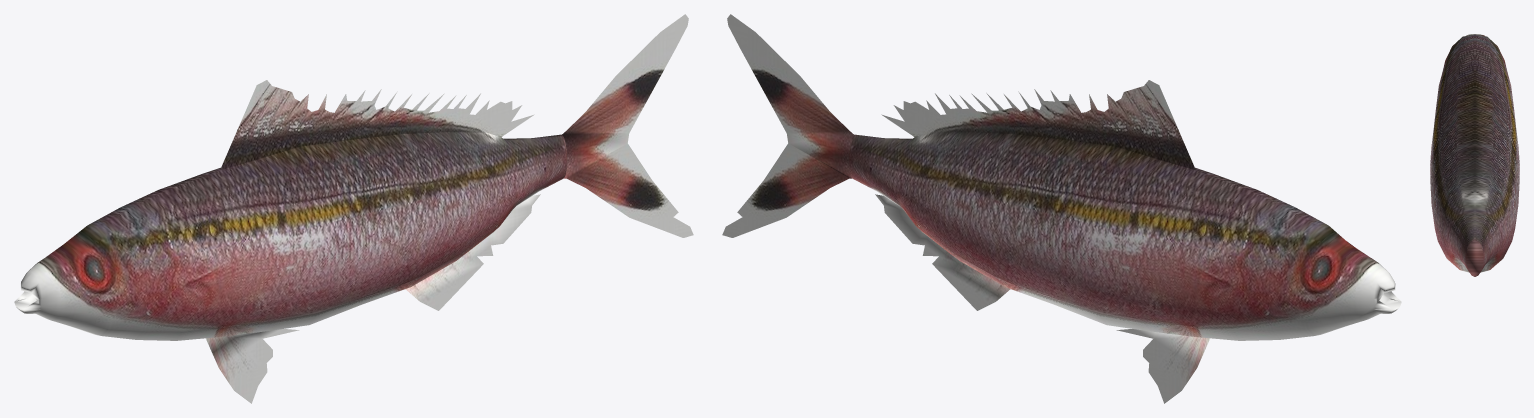
Rendered from takasago.dae.
3 views of the same model, side by side, from view 1: azimuth 30°, elevation 25°; view 2: azimuth 150°, elevation 25°; view 3: azimuth 270°, elevation 25° (orthographic). The views are drawn at different scales.
Visible parts, largest first — view 1: Cylinder; view 2: Cylinder; view 3: Cylinder.
Boxes of the visible parts, bbox=[...] form: Cylinder: bbox=[14, 14, 693, 403]; Cylinder: bbox=[722, 14, 1401, 403]; Cylinder: bbox=[1430, 34, 1519, 276].
Bounding box in the file's own units: 9.76 × 4.41 × 1.35.
